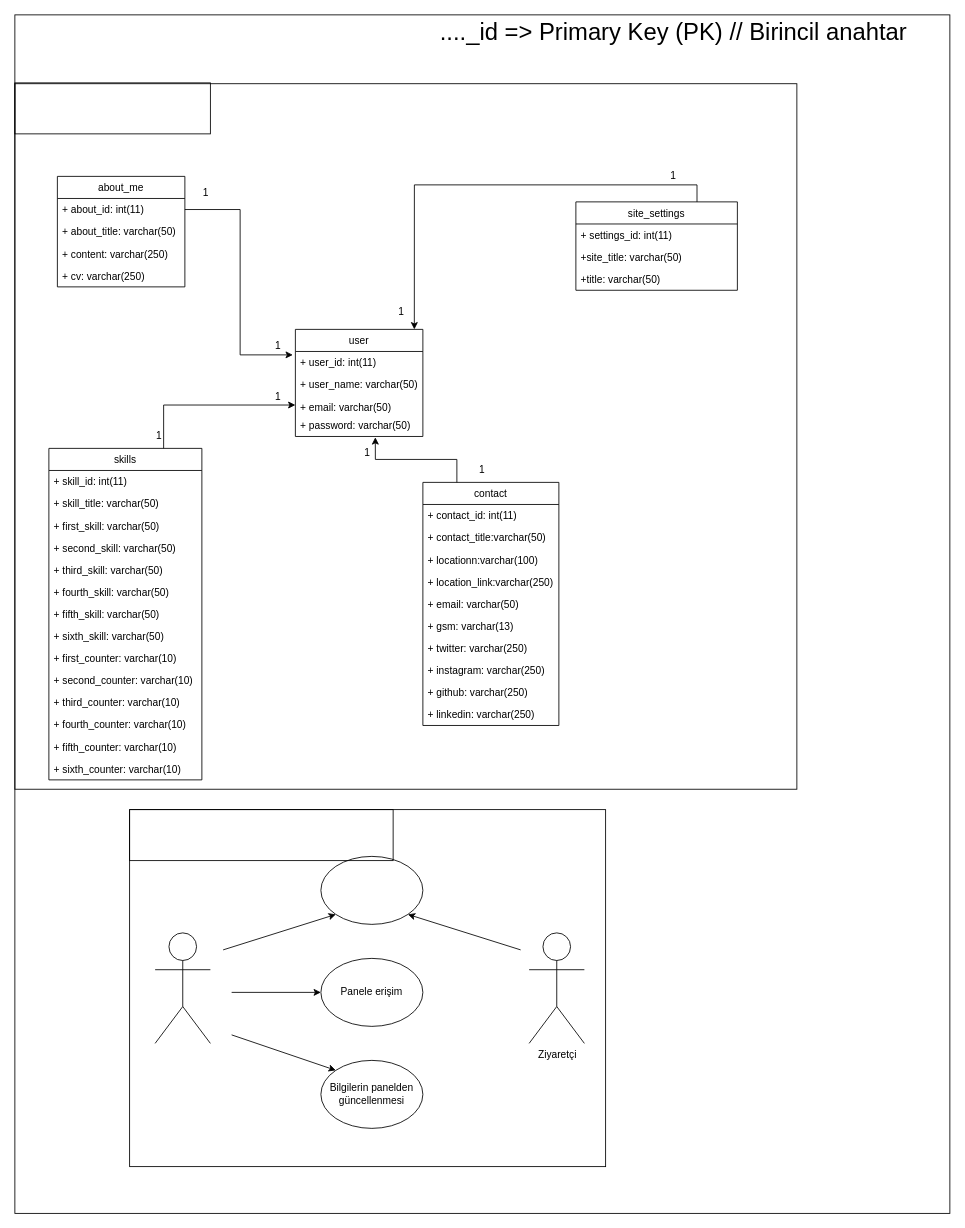
Image size: 965x1228. Some labels were removed from this diagram. The shapes that lost their labels are listed below. From the top down, each one's centre as x and y in pixels, then its label:
point 112,108: UML Diyagram
point 261,835: Use case Diyagram
point 371,890: Siteyi görüntüleme
point 182,987: Admin
